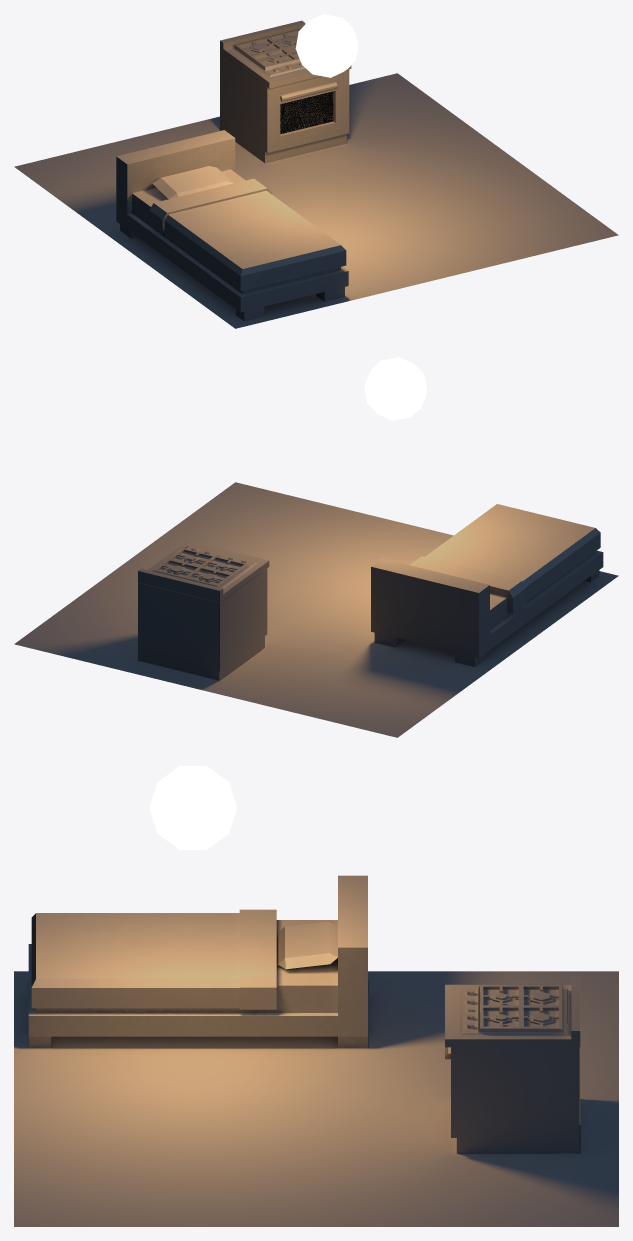
File: prerendered.glb
3 renders of one model, top to bottom at view 1: azimuth 30°, elevation 25°; view 2: azimuth 150°, elevation 25°; view 3: azimuth 270°, elevation 25°, orthographic. The views are drawn at different scales.
Visible parts, largest first — view 1: Plane, kitchenStove(Clone), cover, bedSingle(Clone), Icosphere, pillow; view 2: Plane, kitchenStove(Clone), bedSingle(Clone), cover, Icosphere; view 3: Plane, cover, kitchenStove(Clone), bedSingle(Clone), Icosphere, pillow.
Boxes of the visible parts, x1,y1,x2,y2 form: Plane: (14,73,618,328); kitchenStove(Clone): (220,20,351,163); cover: (149,178,346,290); bedSingle(Clone): (116,130,348,321); Icosphere: (295,14,358,77); pillow: (152,166,233,198); Plane: (14,482,618,737); kitchenStove(Clone): (138,540,269,680); bedSingle(Clone): (371,550,603,666); cover: (409,504,600,613); Icosphere: (364,357,427,420); Plane: (14,971,618,1226); cover: (31,909,276,1009); kitchenStove(Clone): (445,976,580,1153); bedSingle(Clone): (28,875,367,1047); Icosphere: (149,766,237,849); pillow: (278,921,337,969).
Size of the model in its own units: 13.72 by 7.72 by 13.72.
6 materials, 5 textured.
